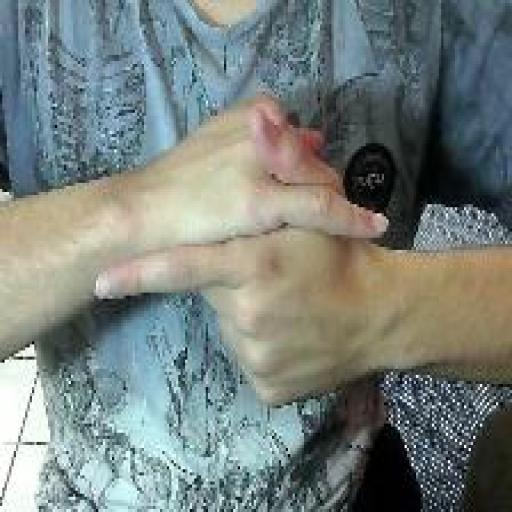U -hare-: (93, 88, 392, 414)
